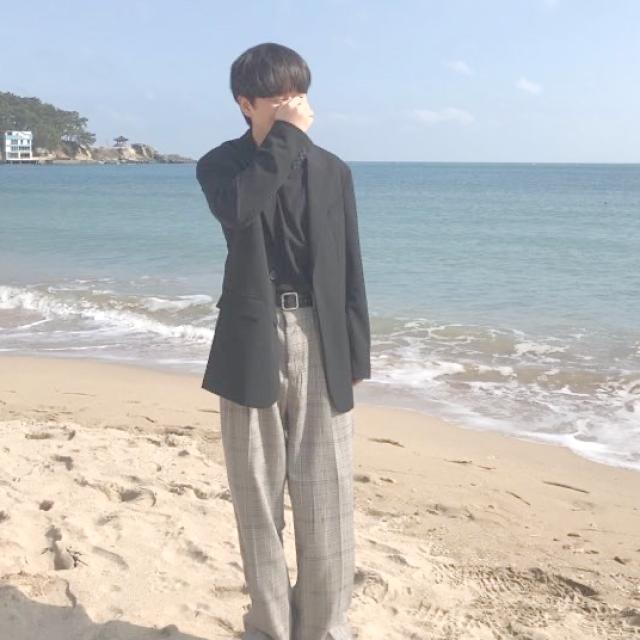blazer: (194, 124, 373, 414)
slacks: (218, 288, 360, 640)
